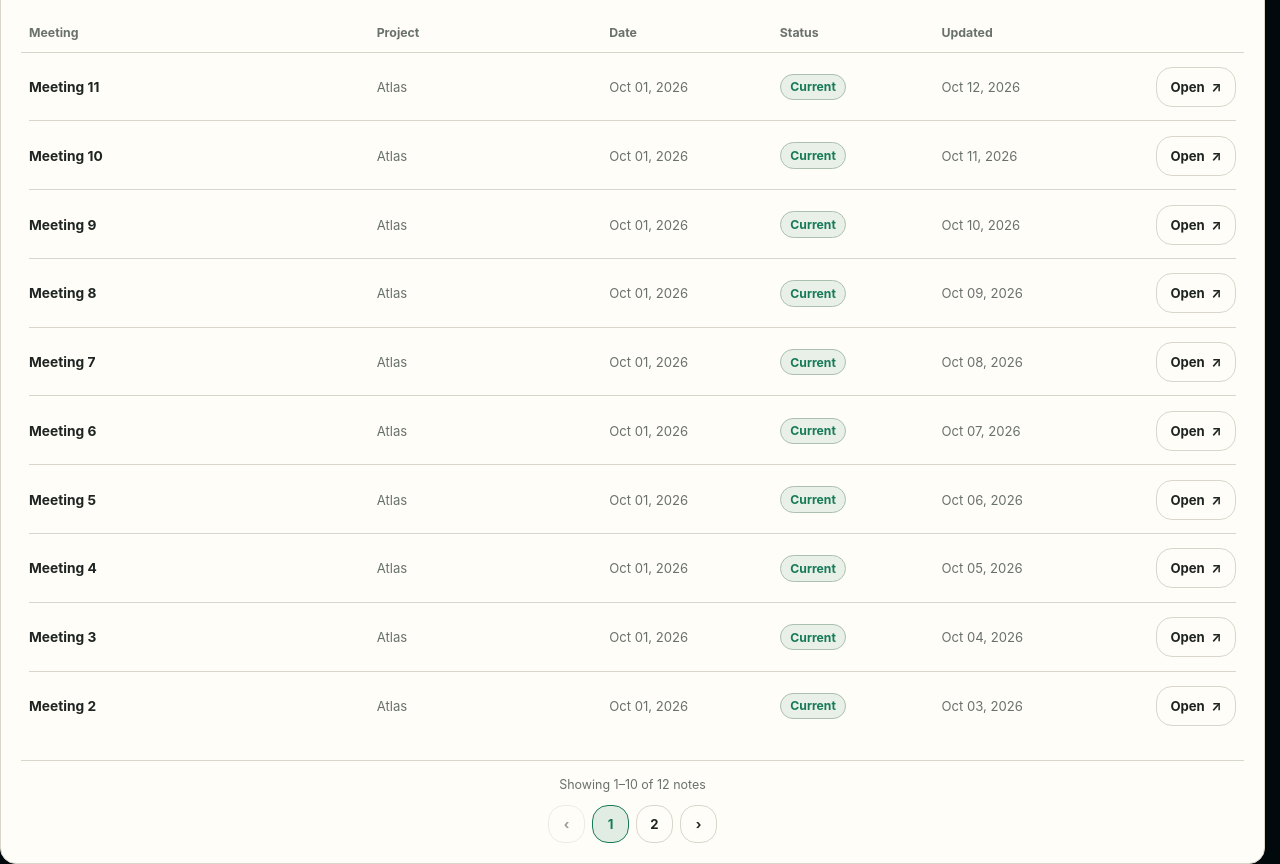
Scenario: GlobalMeetingsPage › paginates more than ten notes and exposes page controls
(page scrolled)
Click the button named "Next page" at coordinates (698, 824), box [680,805,717,843]
(page scrolled)
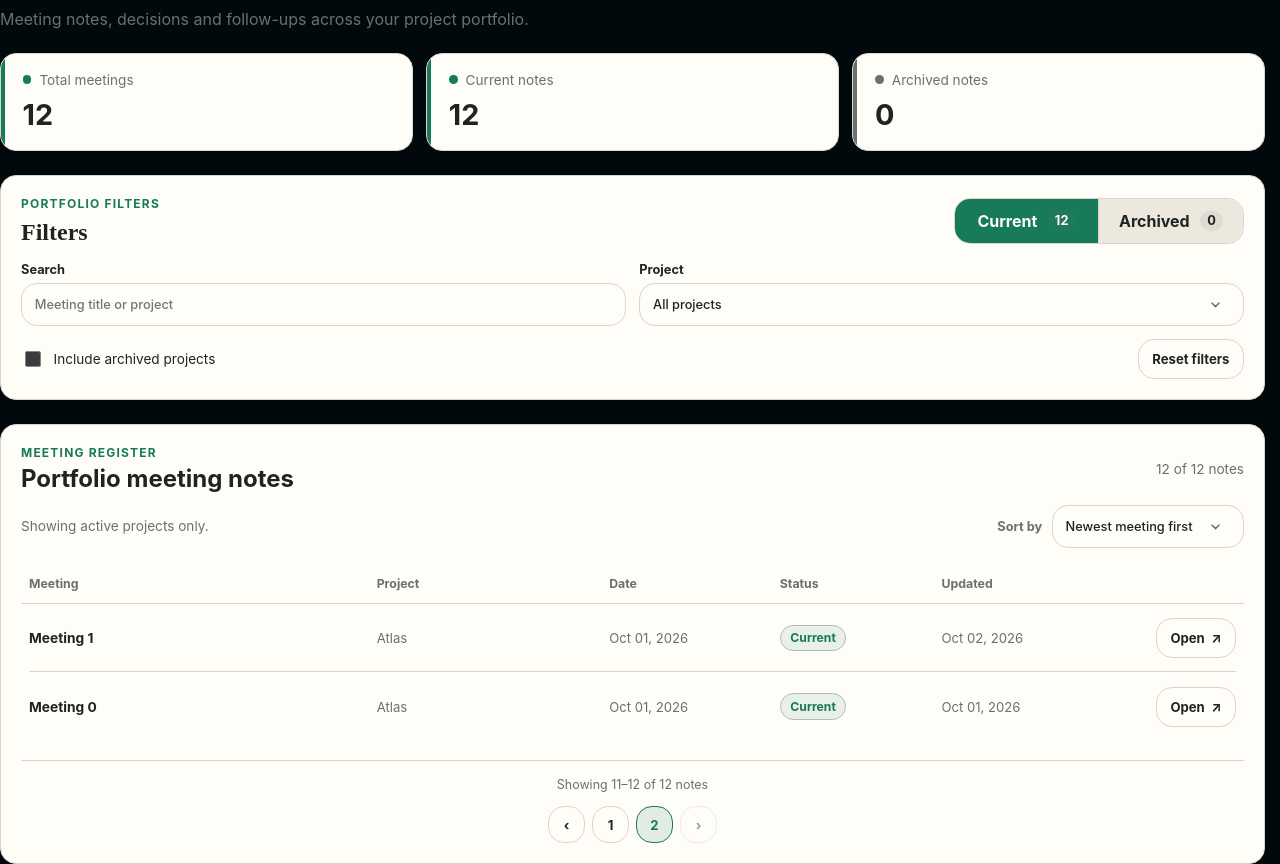
expect the number of links named "Open meeting note:" is 2: met, box [1156,618,1236,658]; [1156,687,1236,727]
